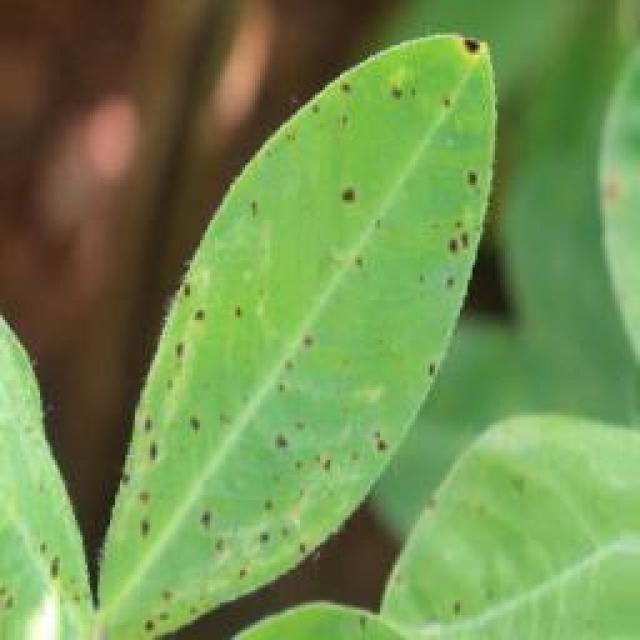Sigatoka: (188, 497, 338, 585), (428, 174, 516, 304), (0, 520, 95, 640), (105, 410, 176, 546), (250, 408, 349, 498), (148, 366, 214, 455), (337, 398, 415, 468), (166, 253, 214, 358), (126, 566, 200, 632), (370, 73, 473, 120), (292, 85, 358, 141), (239, 184, 291, 254), (272, 337, 332, 397), (210, 285, 272, 340), (332, 163, 378, 220), (454, 23, 490, 82), (335, 248, 384, 289), (437, 584, 473, 634), (406, 344, 443, 390), (334, 612, 389, 640), (419, 492, 455, 520)
